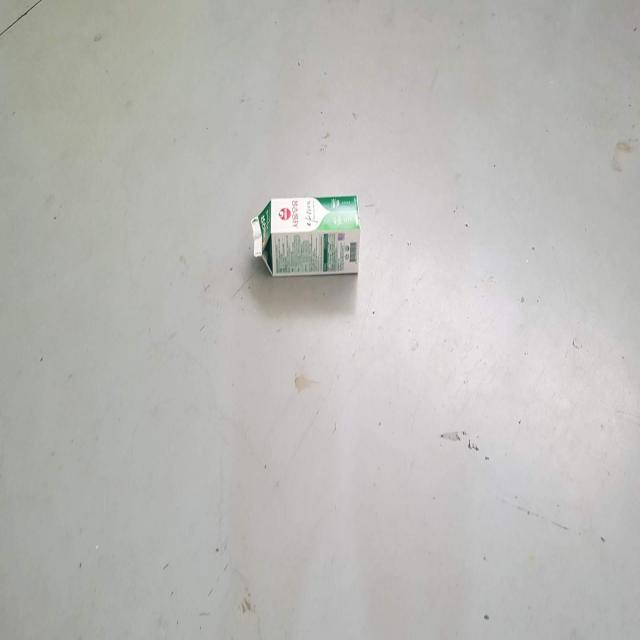paperpack: (251, 194, 361, 275)
